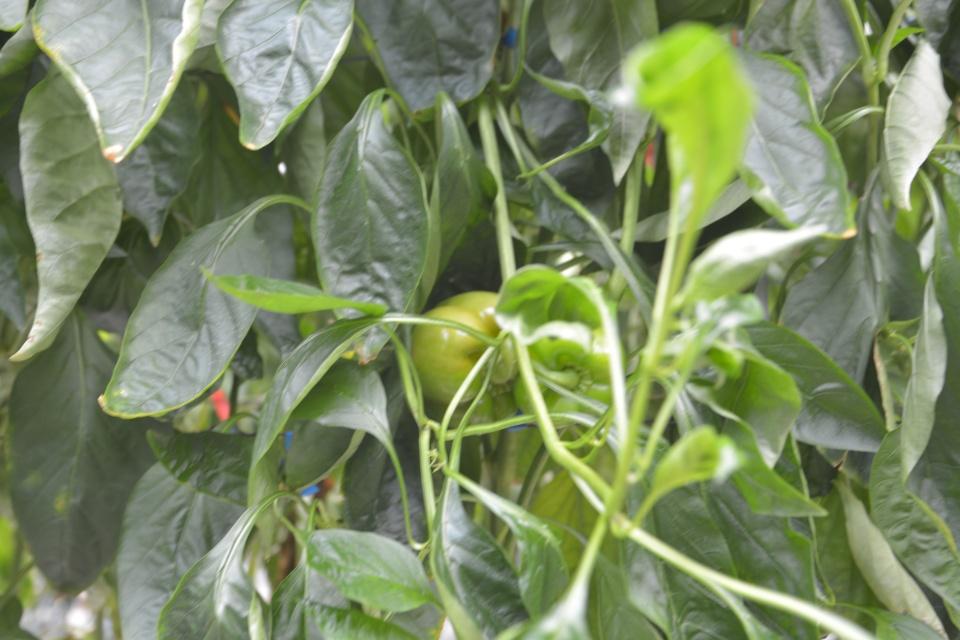fruit: (410, 290, 521, 405), (513, 315, 616, 432), (425, 376, 520, 464)
pedicle: (560, 357, 593, 396), (482, 363, 512, 395)
